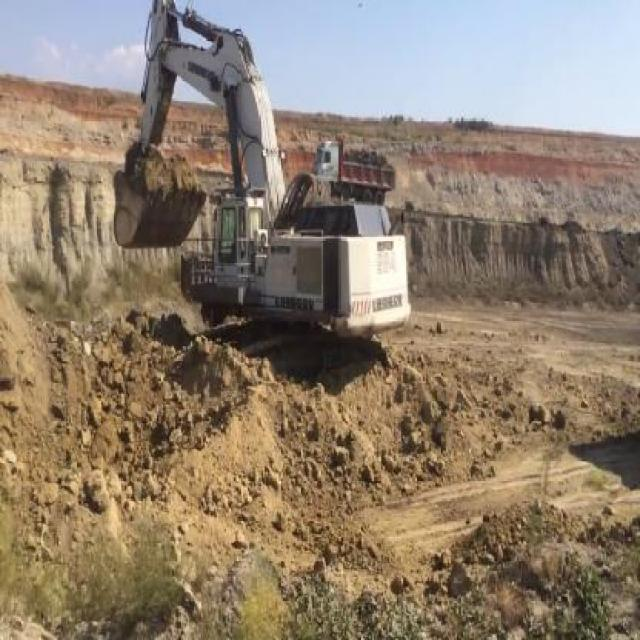Dump Truck: (316, 138, 396, 207)
Excavator: (116, 0, 416, 388)
